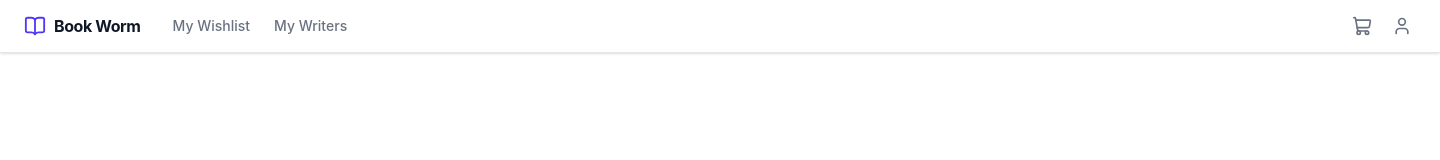
Test: Navbar component › when cart is empty, clicking cart shows warning toast and does not navigate
Click the button named "Cart is empty" at (1362, 26), box [1348,12,1376,40]
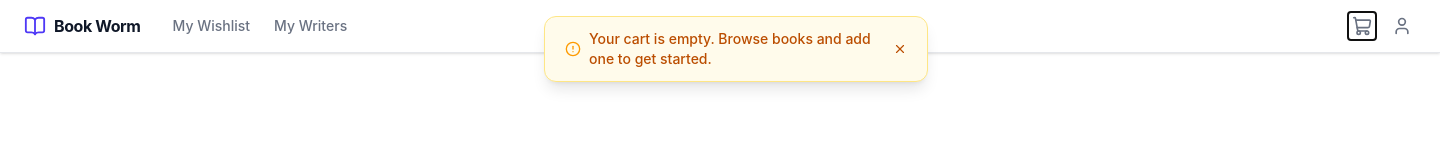
Check: the text "Your cart is empty. Browse books and add one to get started." is shown, box [589,29,885,69]
